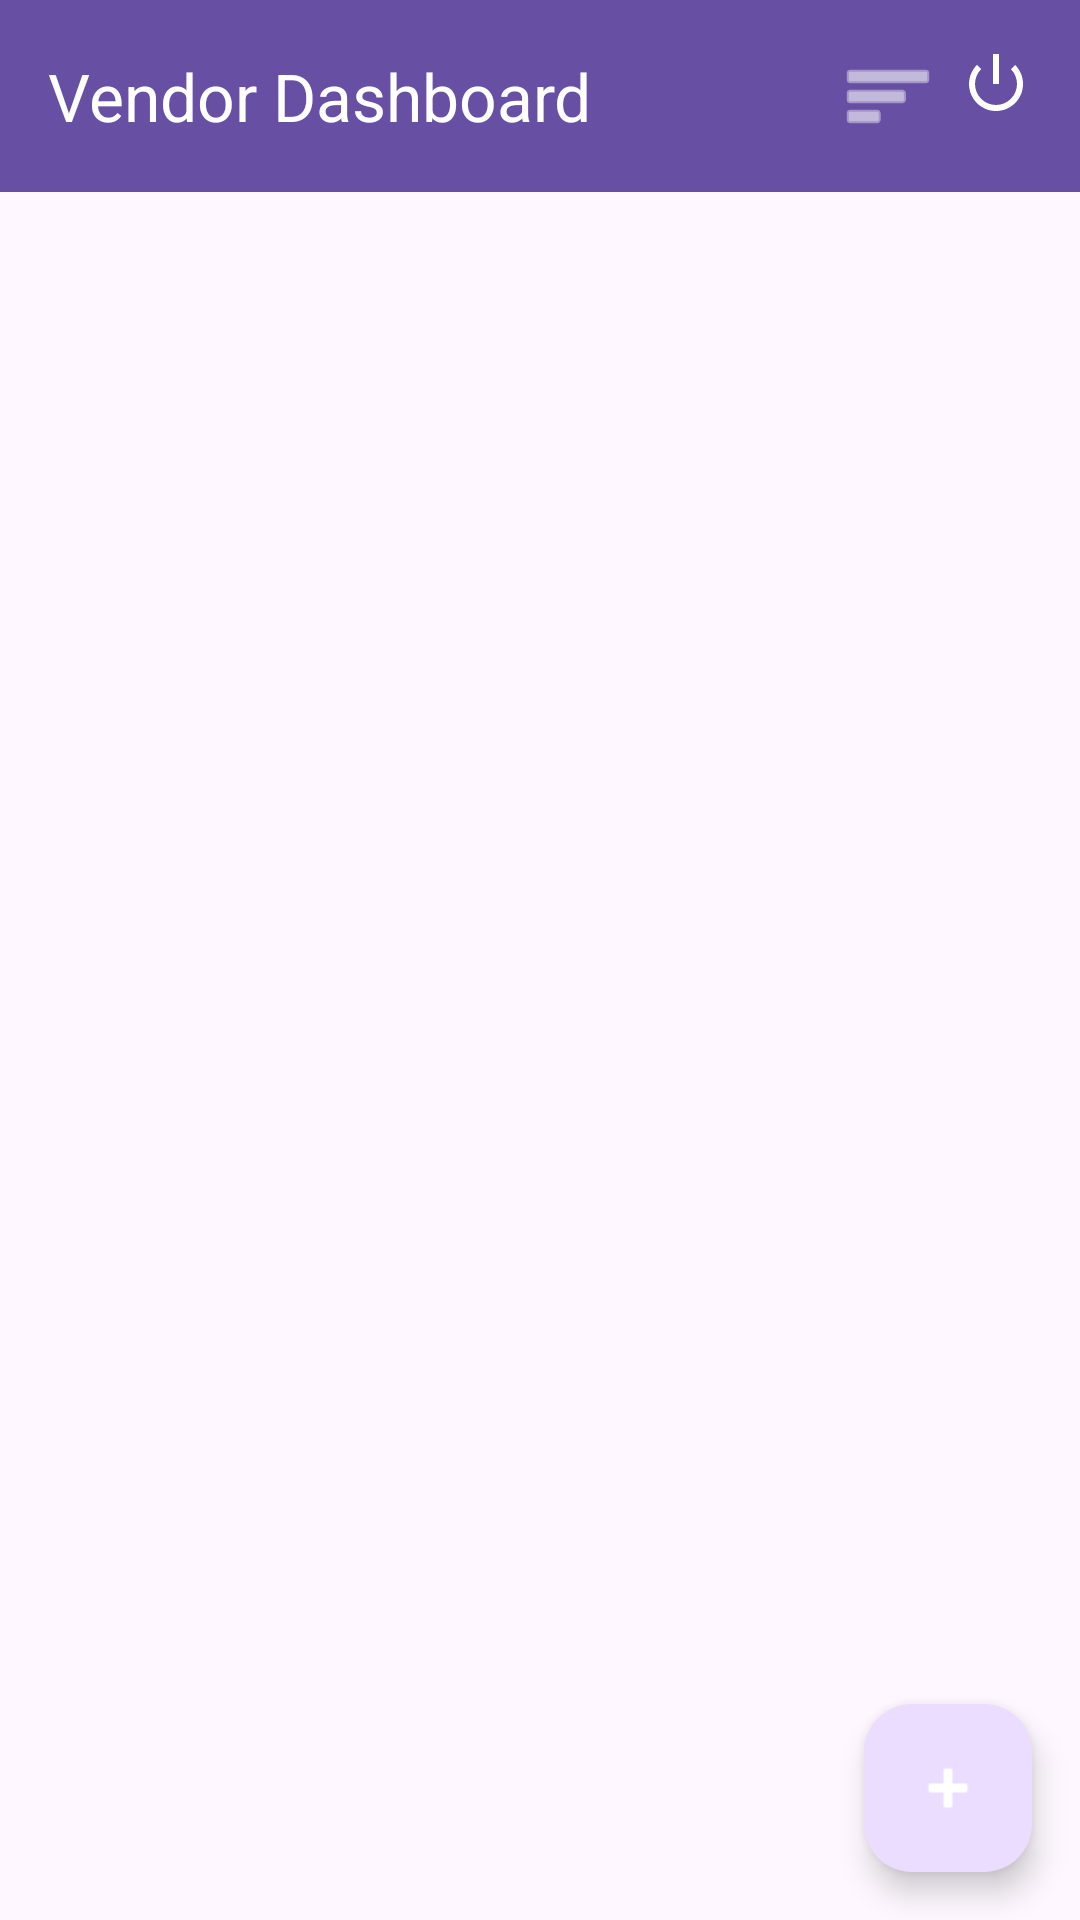

Screen size 1080 x 1920. Icon name, then its box in pixels as (x1, y1, x2, y2):
Add Product: (864, 1704, 1032, 1872)
